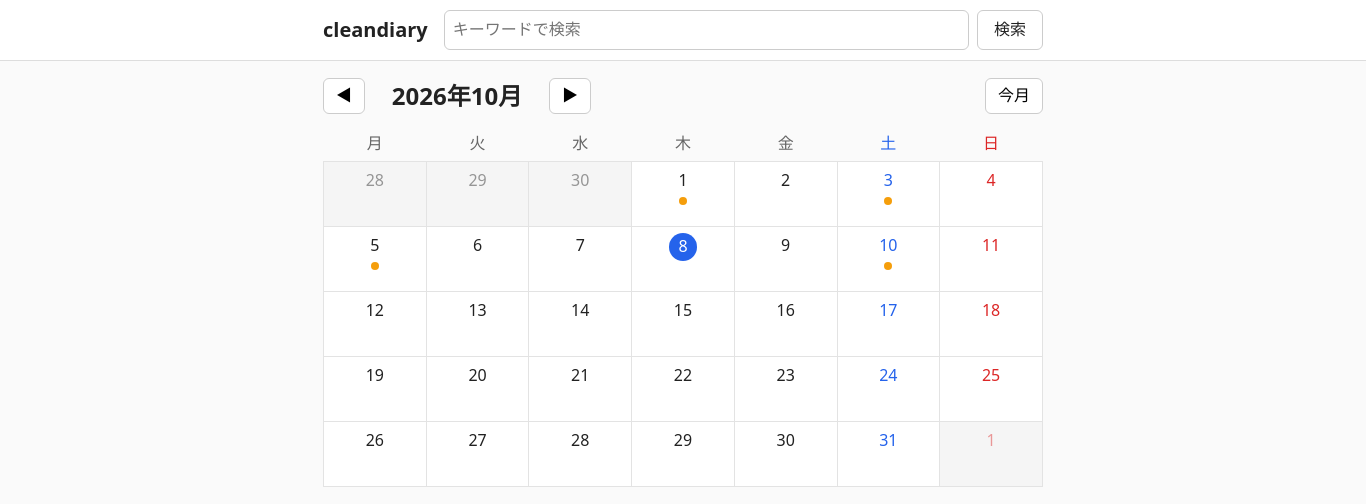
Test: キーワード検索 › & や # を含むキーワードでも検索できる
Type "Q&A #1" into the search field at (706, 30), box [444, 10, 969, 50]
Then press Enter
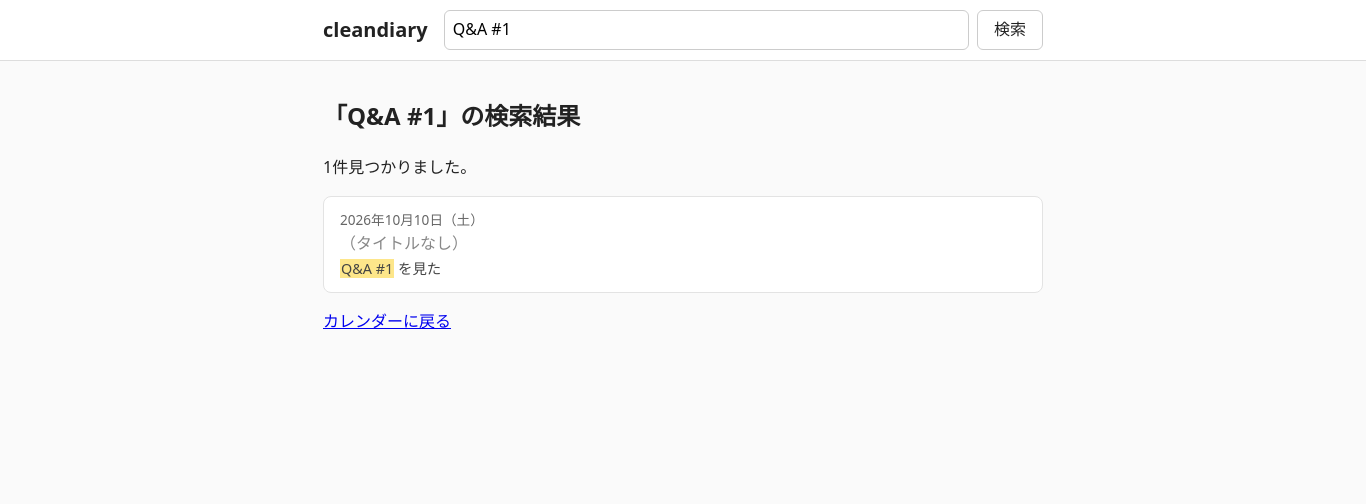
Check: the heading "「Q&A #1」の検索結果" is shown, box [323, 98, 580, 132]
Check: the text "1件見つかりました。" is shown, box [323, 156, 476, 178]
